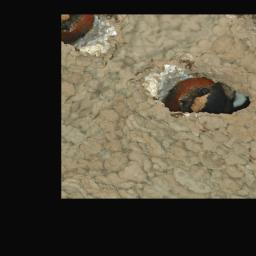Swallow: (156, 67, 244, 135)
